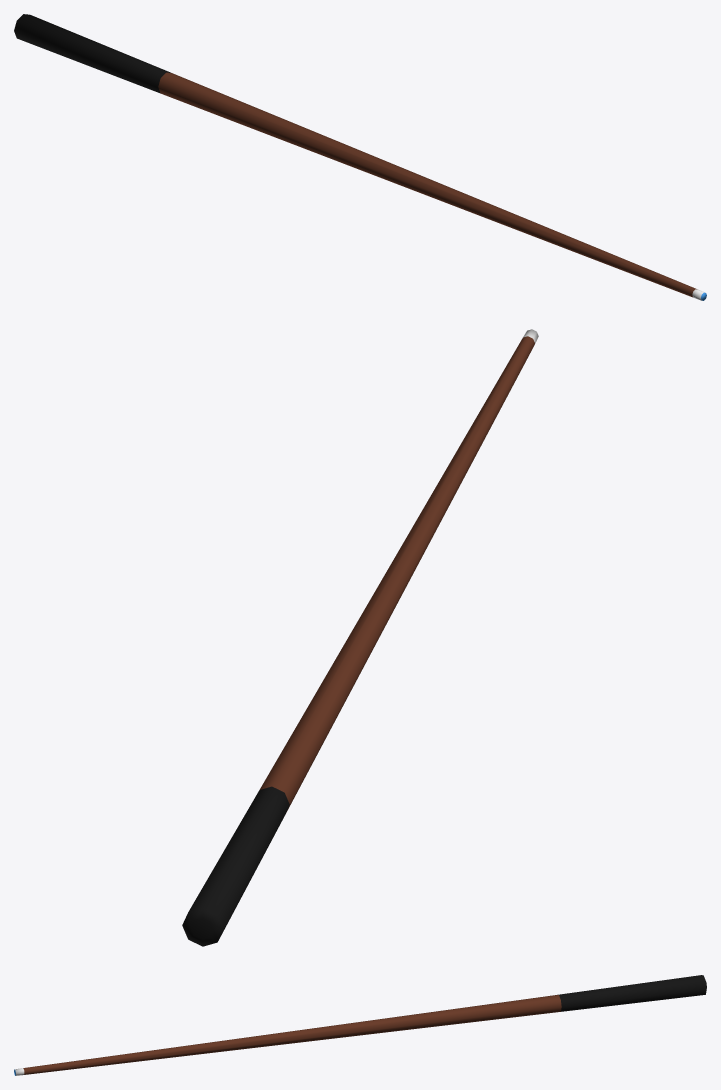
File: Pooltable Cue.fbx
3 renders of one model, top to bottom at view 1: azimuth 30°, elevation 25°; view 2: azimuth 150°, elevation 25°; view 3: azimuth 270°, elevation 25°, orthographic. The views are drawn at different scales.
Parts seen in each view (by area): view 1: Cue; view 2: Cue; view 3: Cue.
Part boxes in pixels (<box>): Cue: <box>14,14,706,300</box>; Cue: <box>182,329,538,946</box>; Cue: <box>14,975,706,1075</box>.
Bounding box in the file's own units: 4151 × 400 × 13007.
